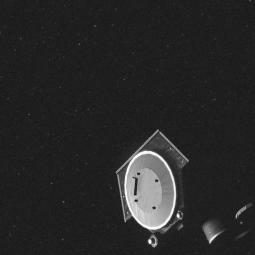cheops: (111, 132, 255, 251)
